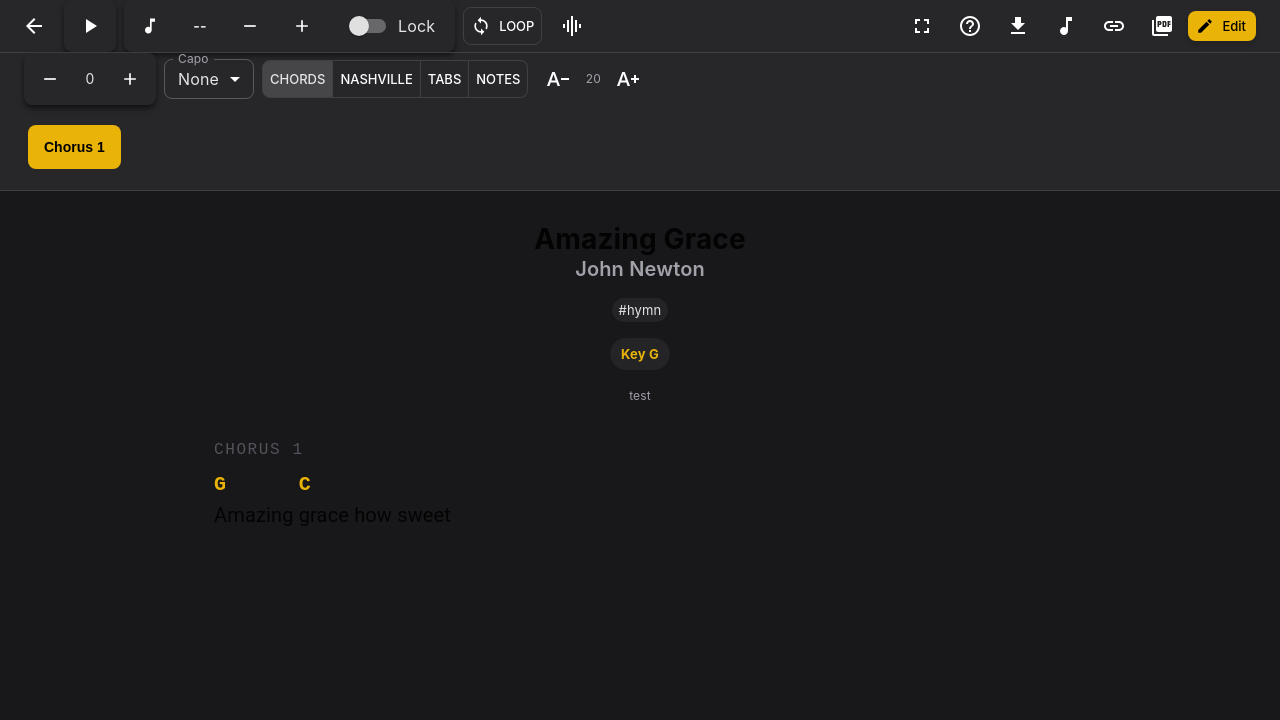
Test case: SongViewer › shows the current text size and changes it
Expected: the text named "text size 20 pixels" is shown, [586,71,601,86]
Step 1. Click the button named "increase text size" → [628, 79], box [606,57,650,101]
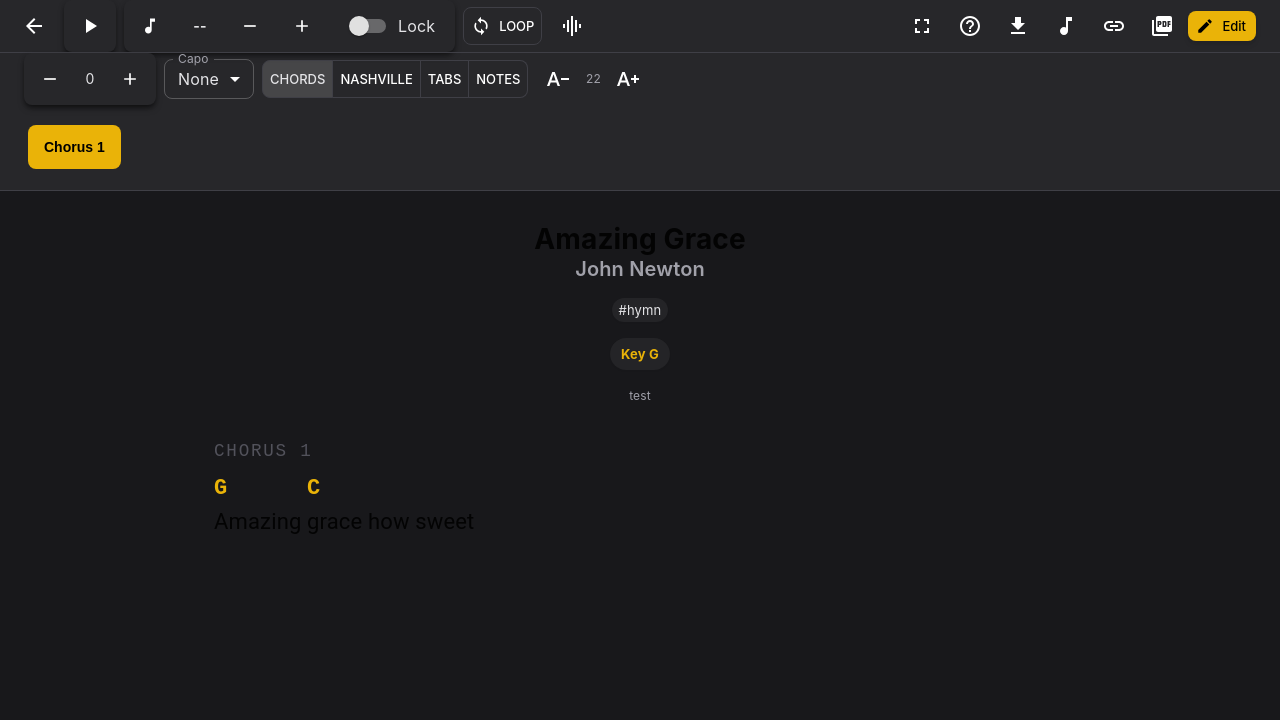
Expected: the text named "text size 22 pixels" is shown, [586,71,601,86]
